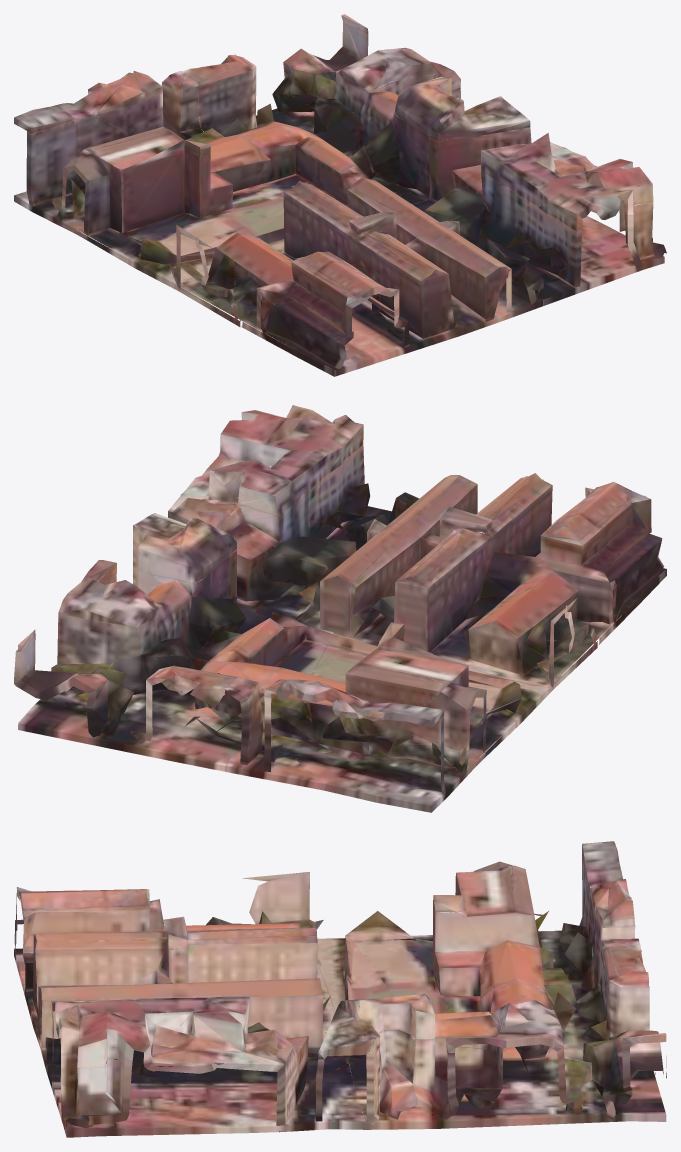
3 views of the same model, one above another, from view 1: azimuth 30°, elevation 25°; view 2: azimuth 150°, elevation 25°; view 3: azimuth 270°, elevation 25° (orthographic). The views are drawn at different scales.
Visible parts, largest first — view 1: Mesh_0; view 2: Mesh_0; view 3: Mesh_0.
Part boxes in pixels (x1,y1,x2,y2): Mesh_0: (14, 14, 666, 376); Mesh_0: (14, 405, 666, 812); Mesh_0: (14, 841, 666, 1137).
Bounding box in the file's own units: 134 × 33.46 × 165.
Materials: 1 (1 with a texture image).
